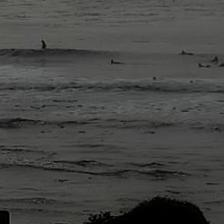surfer: (109, 59, 124, 65), (180, 50, 194, 55), (41, 40, 47, 50), (198, 64, 211, 68), (212, 56, 218, 62), (218, 62, 223, 69)
